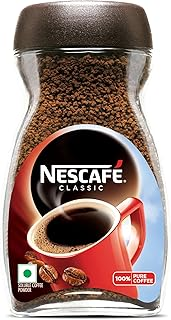Coffee: (4, 2, 167, 317)
